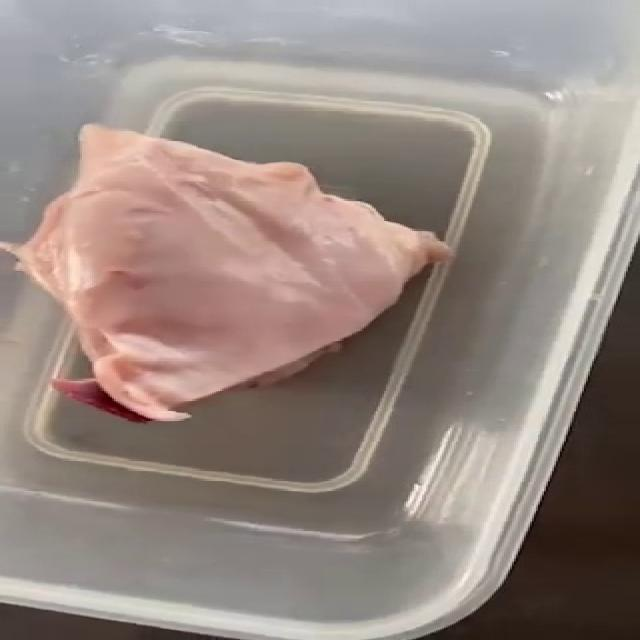chicken: (23, 120, 465, 430)
